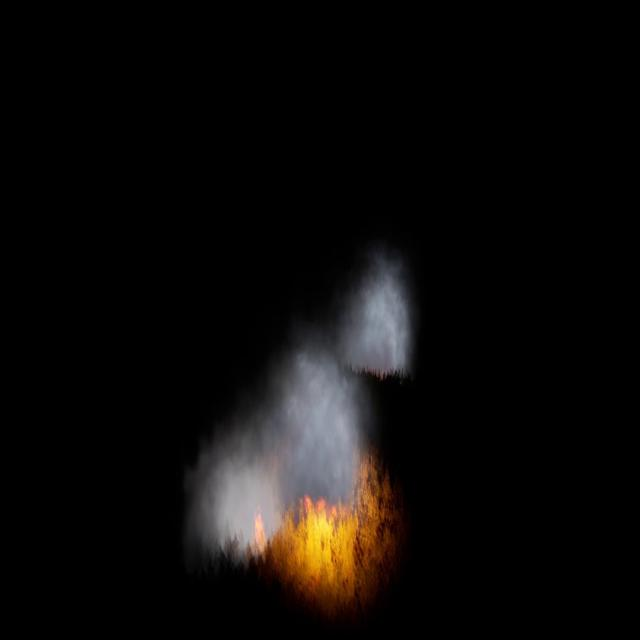fire: (242, 458, 397, 600)
smoke: (182, 250, 413, 558)
